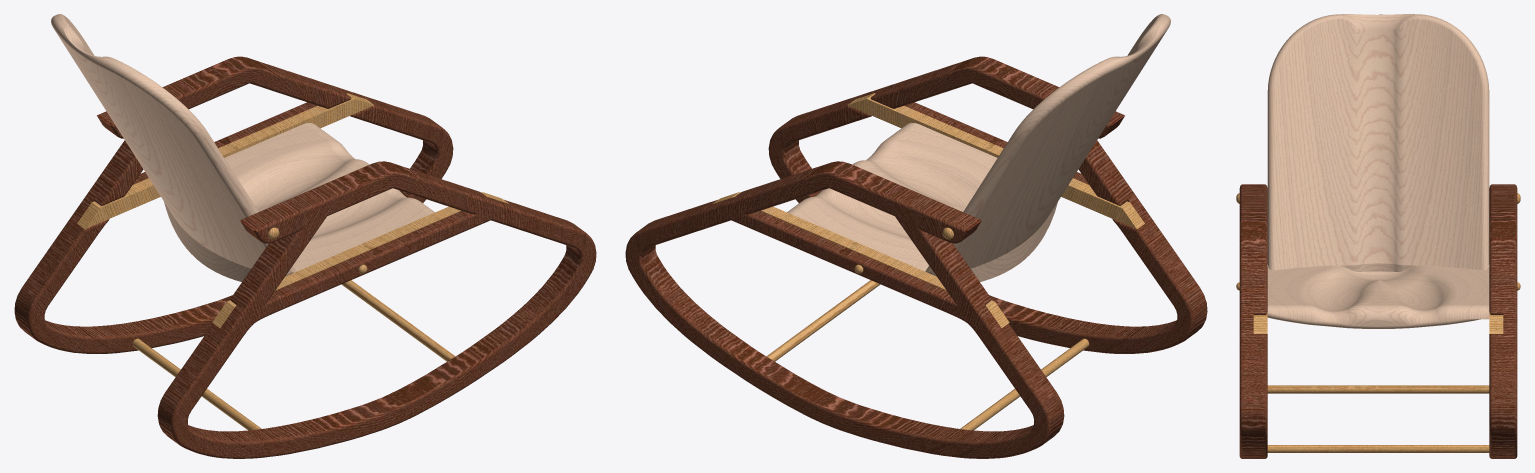
3 views of the same model, side by side, from view 1: azimuth 30°, elevation 25°; view 2: azimuth 150°, elevation 25°; view 3: azimuth 270°, elevation 25° (orthographic). The views are drawn at different scales.
Parts seen in each view (by area): view 1: Leg (1), Leg, Back, Seat, Rail, Rail (1), bar, bar (1); view 2: Leg, Leg (1), Back, Seat, Rail (1), Rail, bar, bar (1); view 3: Back, Seat, Leg, Leg (1), bar (1), bar.
Part boxes in pixels (x1,y1,x2,y2): Leg (1): (157, 161, 596, 458); Leg: (14, 56, 453, 353); Back: (51, 14, 296, 276); Seat: (164, 123, 434, 281); Rail: (77, 93, 374, 228); Rail (1): (212, 192, 508, 327); bar: (341, 280, 455, 361); bar (1): (132, 338, 261, 430); Leg: (625, 161, 1064, 458); Leg (1): (768, 56, 1207, 353); Back: (925, 14, 1170, 276); Seat: (787, 123, 1057, 281); Rail (1): (847, 93, 1144, 228); Rail: (713, 192, 1009, 327); bar: (766, 280, 880, 361); bar (1): (960, 338, 1089, 430); Back: (1267, 14, 1489, 271); Seat: (1267, 265, 1489, 328); Leg: (1489, 184, 1517, 458); Leg (1): (1239, 184, 1267, 458); bar (1): (1267, 385, 1489, 393); bar: (1267, 445, 1489, 452).
Size of the model in its own units: 0.3195 by 0.2676 by 0.205.
12 materials, 12 textured.
